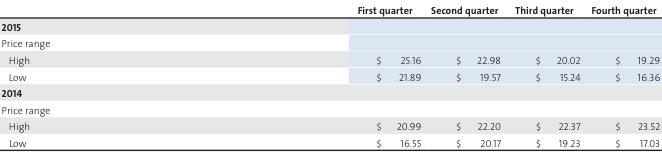table: (0, 1, 659, 150)
table column: (192, 1, 425, 150), (0, 1, 192, 150), (425, 1, 507, 150), (507, 1, 585, 150), (585, 1, 659, 150)
table column header: (0, 1, 659, 17)
table projected row header: (0, 17, 659, 34), (0, 83, 659, 100), (0, 100, 659, 117), (0, 34, 659, 50)
table row: (0, 17, 659, 34), (0, 50, 659, 67), (0, 83, 659, 100), (0, 100, 659, 117), (0, 133, 659, 150), (0, 1, 659, 17), (0, 34, 659, 50), (0, 67, 659, 83), (0, 117, 659, 133)
